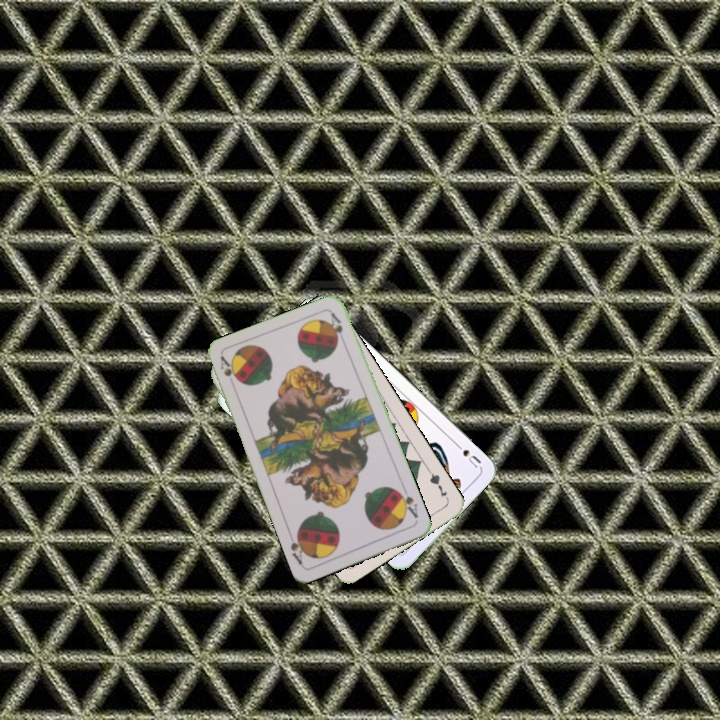G7: (424, 467, 451, 503)
SA: (393, 484, 421, 521), (216, 352, 241, 385)
SU: (450, 438, 484, 471)
